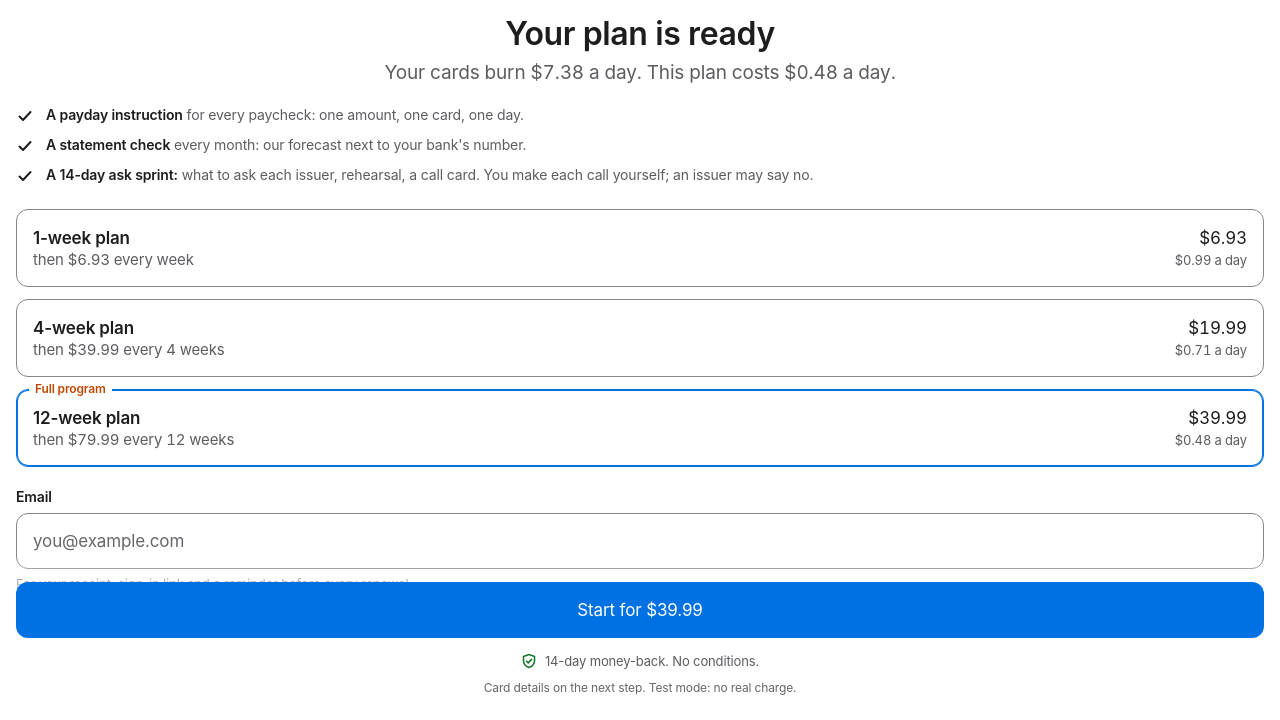
Test: PaywallForm › rewrites the consent for another plan and asks for it again
This screenshot has width=1280, height=720.
Earlier steps of the test are not shown.
Later steps or results of the test are not shown.
Check: the checkbox with test id "plan-consent" is checked, box x1=16 y1=613 x2=36 y2=633
Click the radio button labelled "4-week plan $19.99 $0.71 a day then $39.99 every 4 weeks": click(84, 328) x1=16 y1=299 x2=1264 y2=377
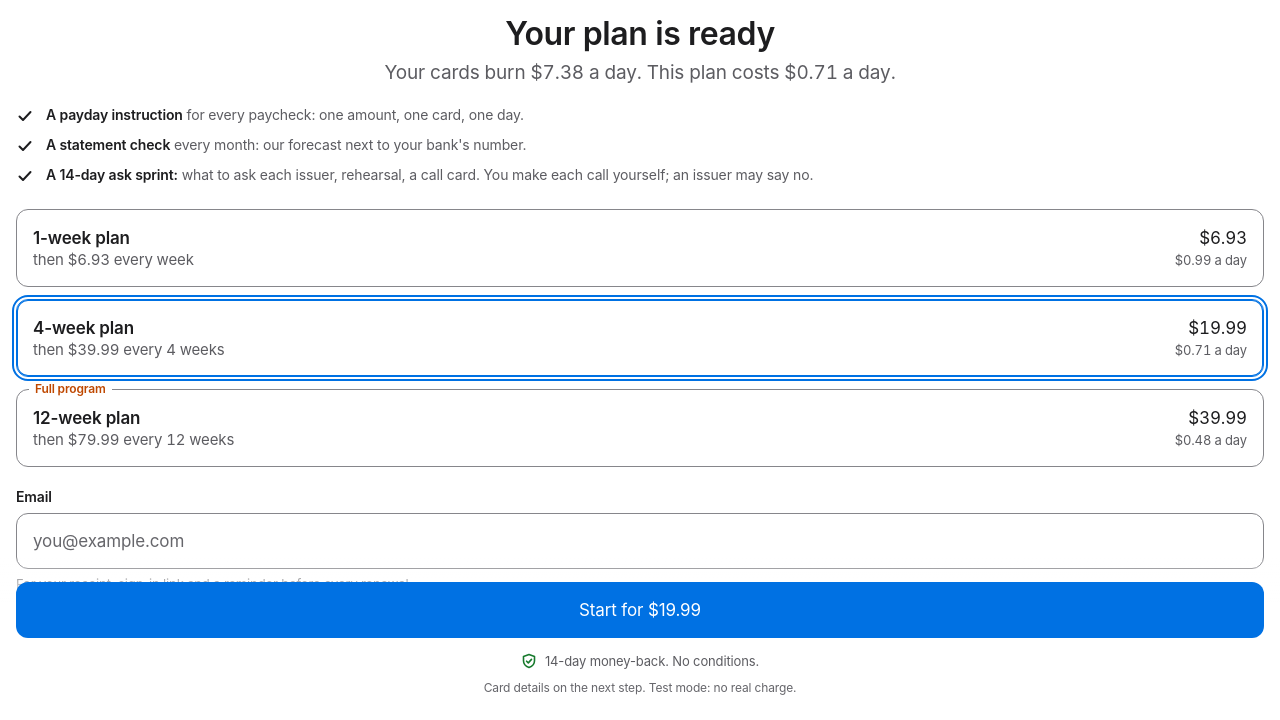
Check: the button with test id "plan-cta" reads "Start for $19.99", box x1=16 y1=582 x2=1264 y2=638
Check: the element with test id "plan-consent-text" shows "after the first 4 weeks for $19.99 the plan renews automatically at $39.99 every 4 weeks", box x1=46 y1=614 x2=1077 y2=631
Check: the text with test id "plan-per-day" reads "$0.71", box x1=784 y1=61 x2=838 y2=84
